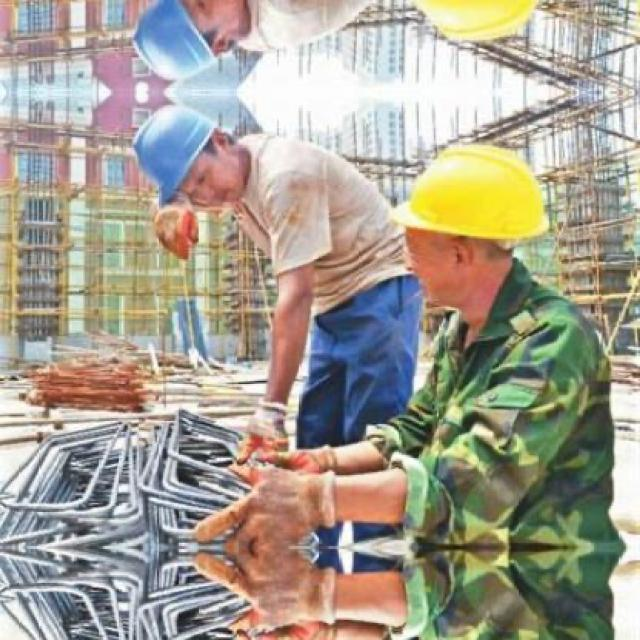con casco: (395, 141, 543, 327), (141, 89, 278, 216)
